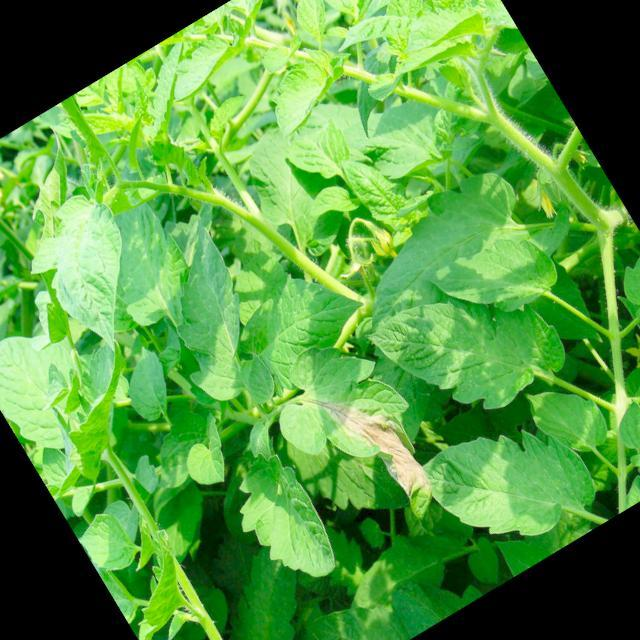Tomato healthy leaf: (328, 156, 569, 382), (117, 204, 310, 430), (365, 246, 578, 450), (410, 387, 612, 580), (70, 180, 222, 364), (219, 250, 385, 406), (211, 440, 351, 600), (0, 310, 106, 461), (516, 362, 621, 474), (251, 49, 354, 140), (304, 177, 363, 231)
Tomato late blight leaf: (268, 338, 462, 558)
